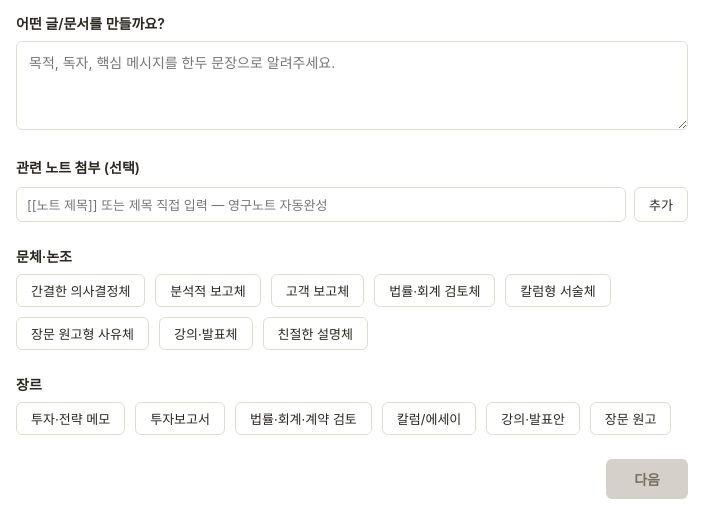
Test case: Step1Seed — 기본 렌더 › 톤을 고르면 장르가 «따라온다» — 클릭 한 번으로 둘이 정해진다
Click the radio button labelled "칼럼형 서술체". click: (558, 291)
box: x1=505 y1=274 x2=611 y2=307
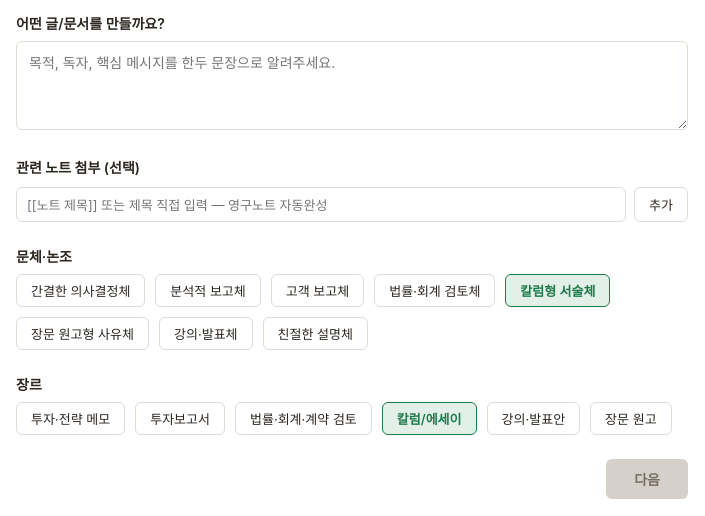
Expected: the radio button labelled "칼럼/에세이" is checked, x1=382 y1=402 x2=476 y2=435
